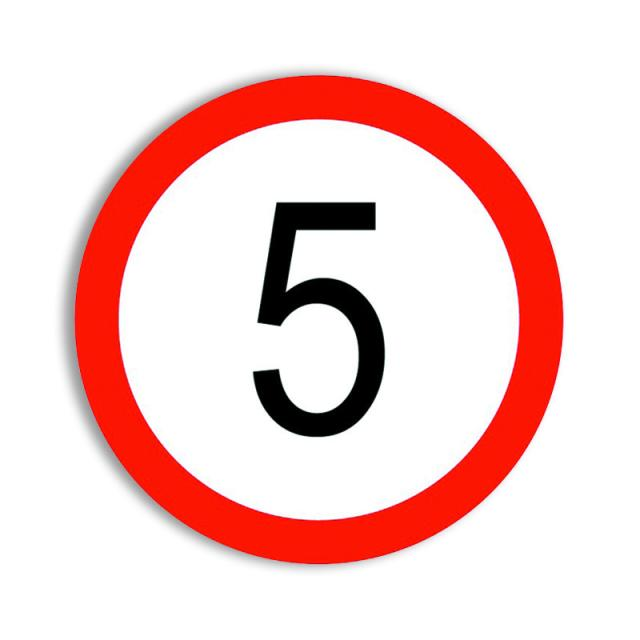speed limit 10: (77, 76, 564, 567)
